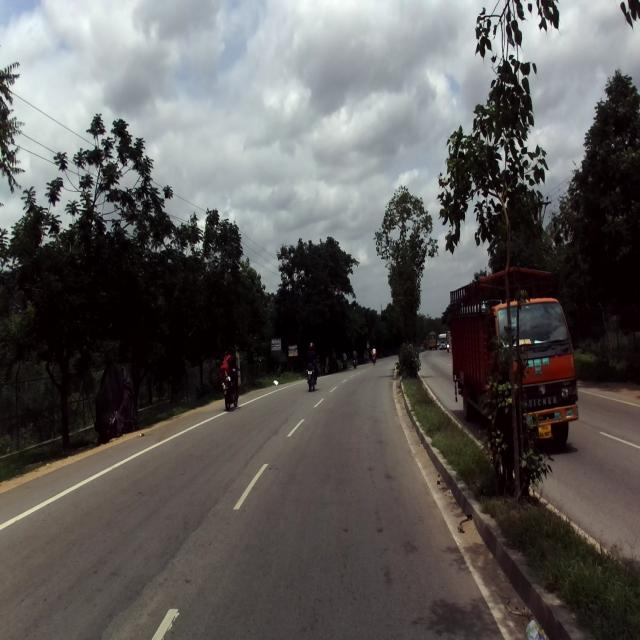truck: (450, 265, 579, 448)
